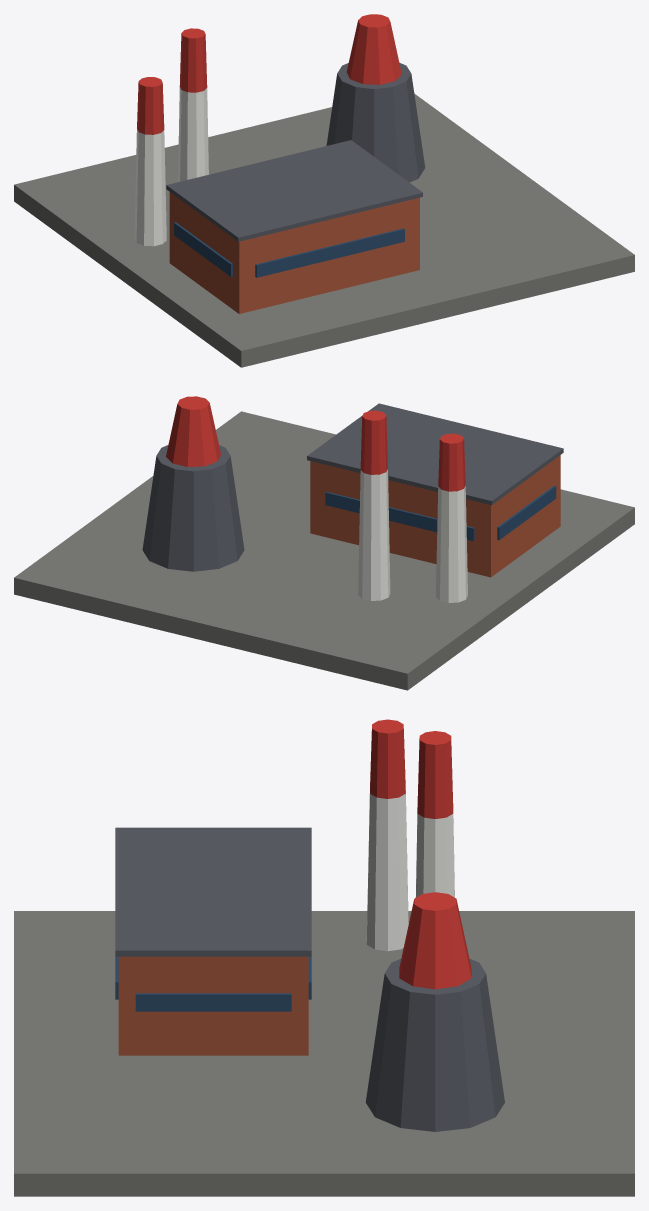
The model's file is metal_rent_2.glb.
3 views of the same model, one above another, from view 1: azimuth 30°, elevation 25°; view 2: azimuth 150°, elevation 25°; view 3: azimuth 270°, elevation 25° (orthographic). The views are drawn at different scales.
Visible parts, largest first — view 1: metal_rent_2; view 2: metal_rent_2; view 3: metal_rent_2.
Boxes of the visible parts, x1,y1,x2,y2 form: metal_rent_2: (14, 14, 634, 367); metal_rent_2: (14, 396, 634, 690); metal_rent_2: (14, 719, 634, 1196).
Bounding box in the file's own units: 1.96 × 0.93 × 1.96.
